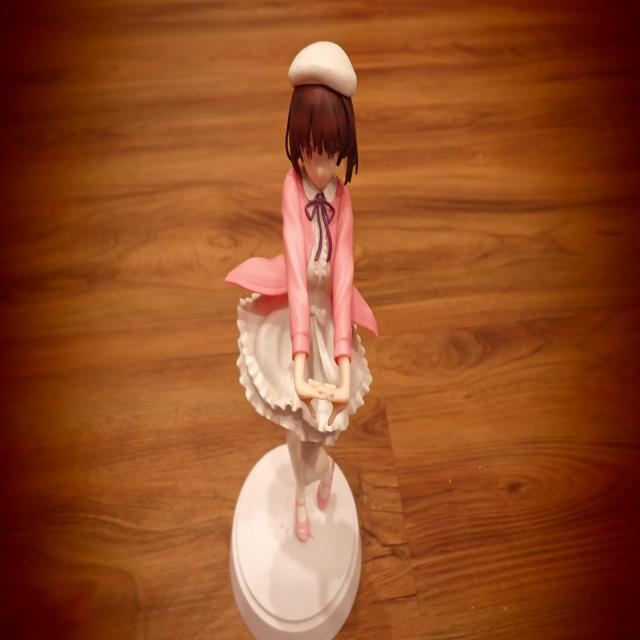My-pink-anime-figure: (227, 42, 377, 540)
